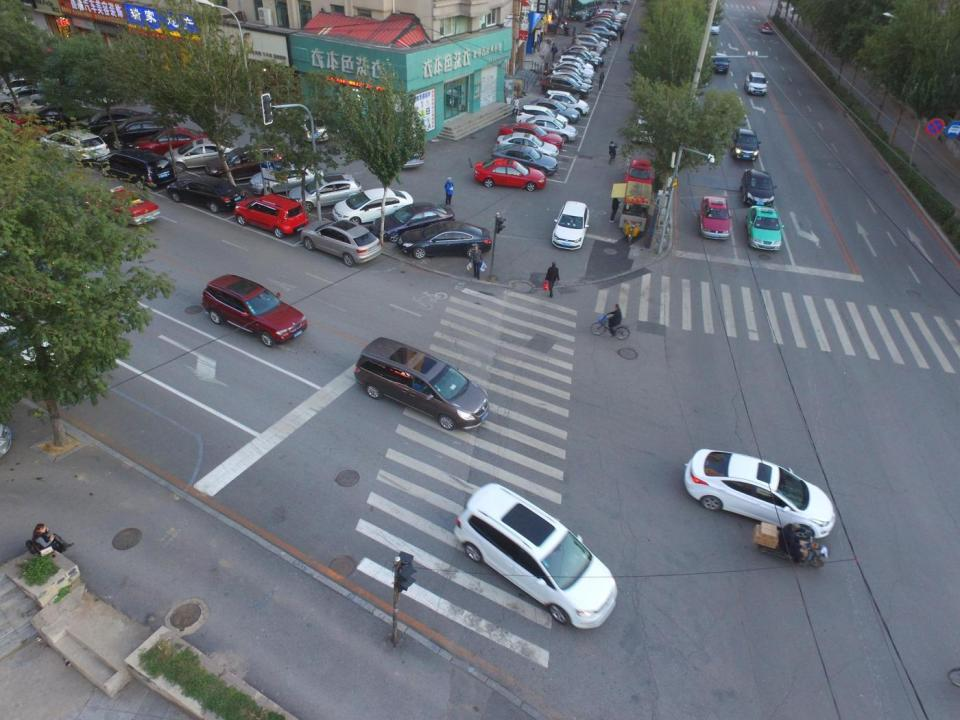car: (455, 484, 625, 632), (684, 448, 837, 542), (350, 337, 492, 431), (203, 271, 308, 345), (303, 217, 382, 271), (372, 202, 456, 243), (206, 141, 289, 182), (332, 186, 413, 228), (400, 222, 494, 258), (235, 195, 308, 240), (130, 127, 216, 162), (288, 173, 365, 212), (167, 176, 246, 214), (160, 137, 241, 174), (26, 101, 106, 137), (98, 115, 180, 150), (42, 126, 111, 167), (363, 129, 424, 174), (97, 186, 162, 228), (71, 107, 159, 138), (251, 162, 326, 198), (473, 156, 547, 192), (489, 141, 559, 179), (12, 92, 91, 122), (0, 84, 69, 116), (495, 132, 560, 164), (550, 200, 590, 250), (745, 205, 786, 251), (1, 75, 58, 108), (276, 110, 331, 144), (498, 122, 564, 150), (0, 110, 49, 145), (698, 195, 734, 241), (738, 166, 777, 208), (518, 115, 578, 141), (630, 106, 663, 149), (526, 98, 580, 123), (515, 104, 568, 129), (540, 90, 590, 116), (730, 126, 762, 162), (542, 75, 590, 97), (548, 69, 592, 92), (622, 158, 655, 187), (551, 65, 593, 87), (557, 50, 599, 71), (564, 45, 602, 68), (553, 61, 595, 80), (571, 34, 608, 54), (563, 48, 603, 66), (575, 32, 611, 50), (746, 70, 769, 97), (586, 19, 619, 35), (584, 26, 617, 40), (589, 17, 622, 31), (711, 50, 730, 74), (596, 9, 625, 23), (598, 8, 627, 21), (592, 15, 620, 28), (595, 13, 621, 25), (758, 19, 775, 34), (705, 19, 719, 36)
van: (96, 148, 177, 188)
